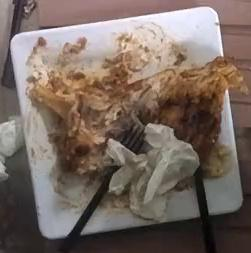chicken: (33, 79, 228, 176)
